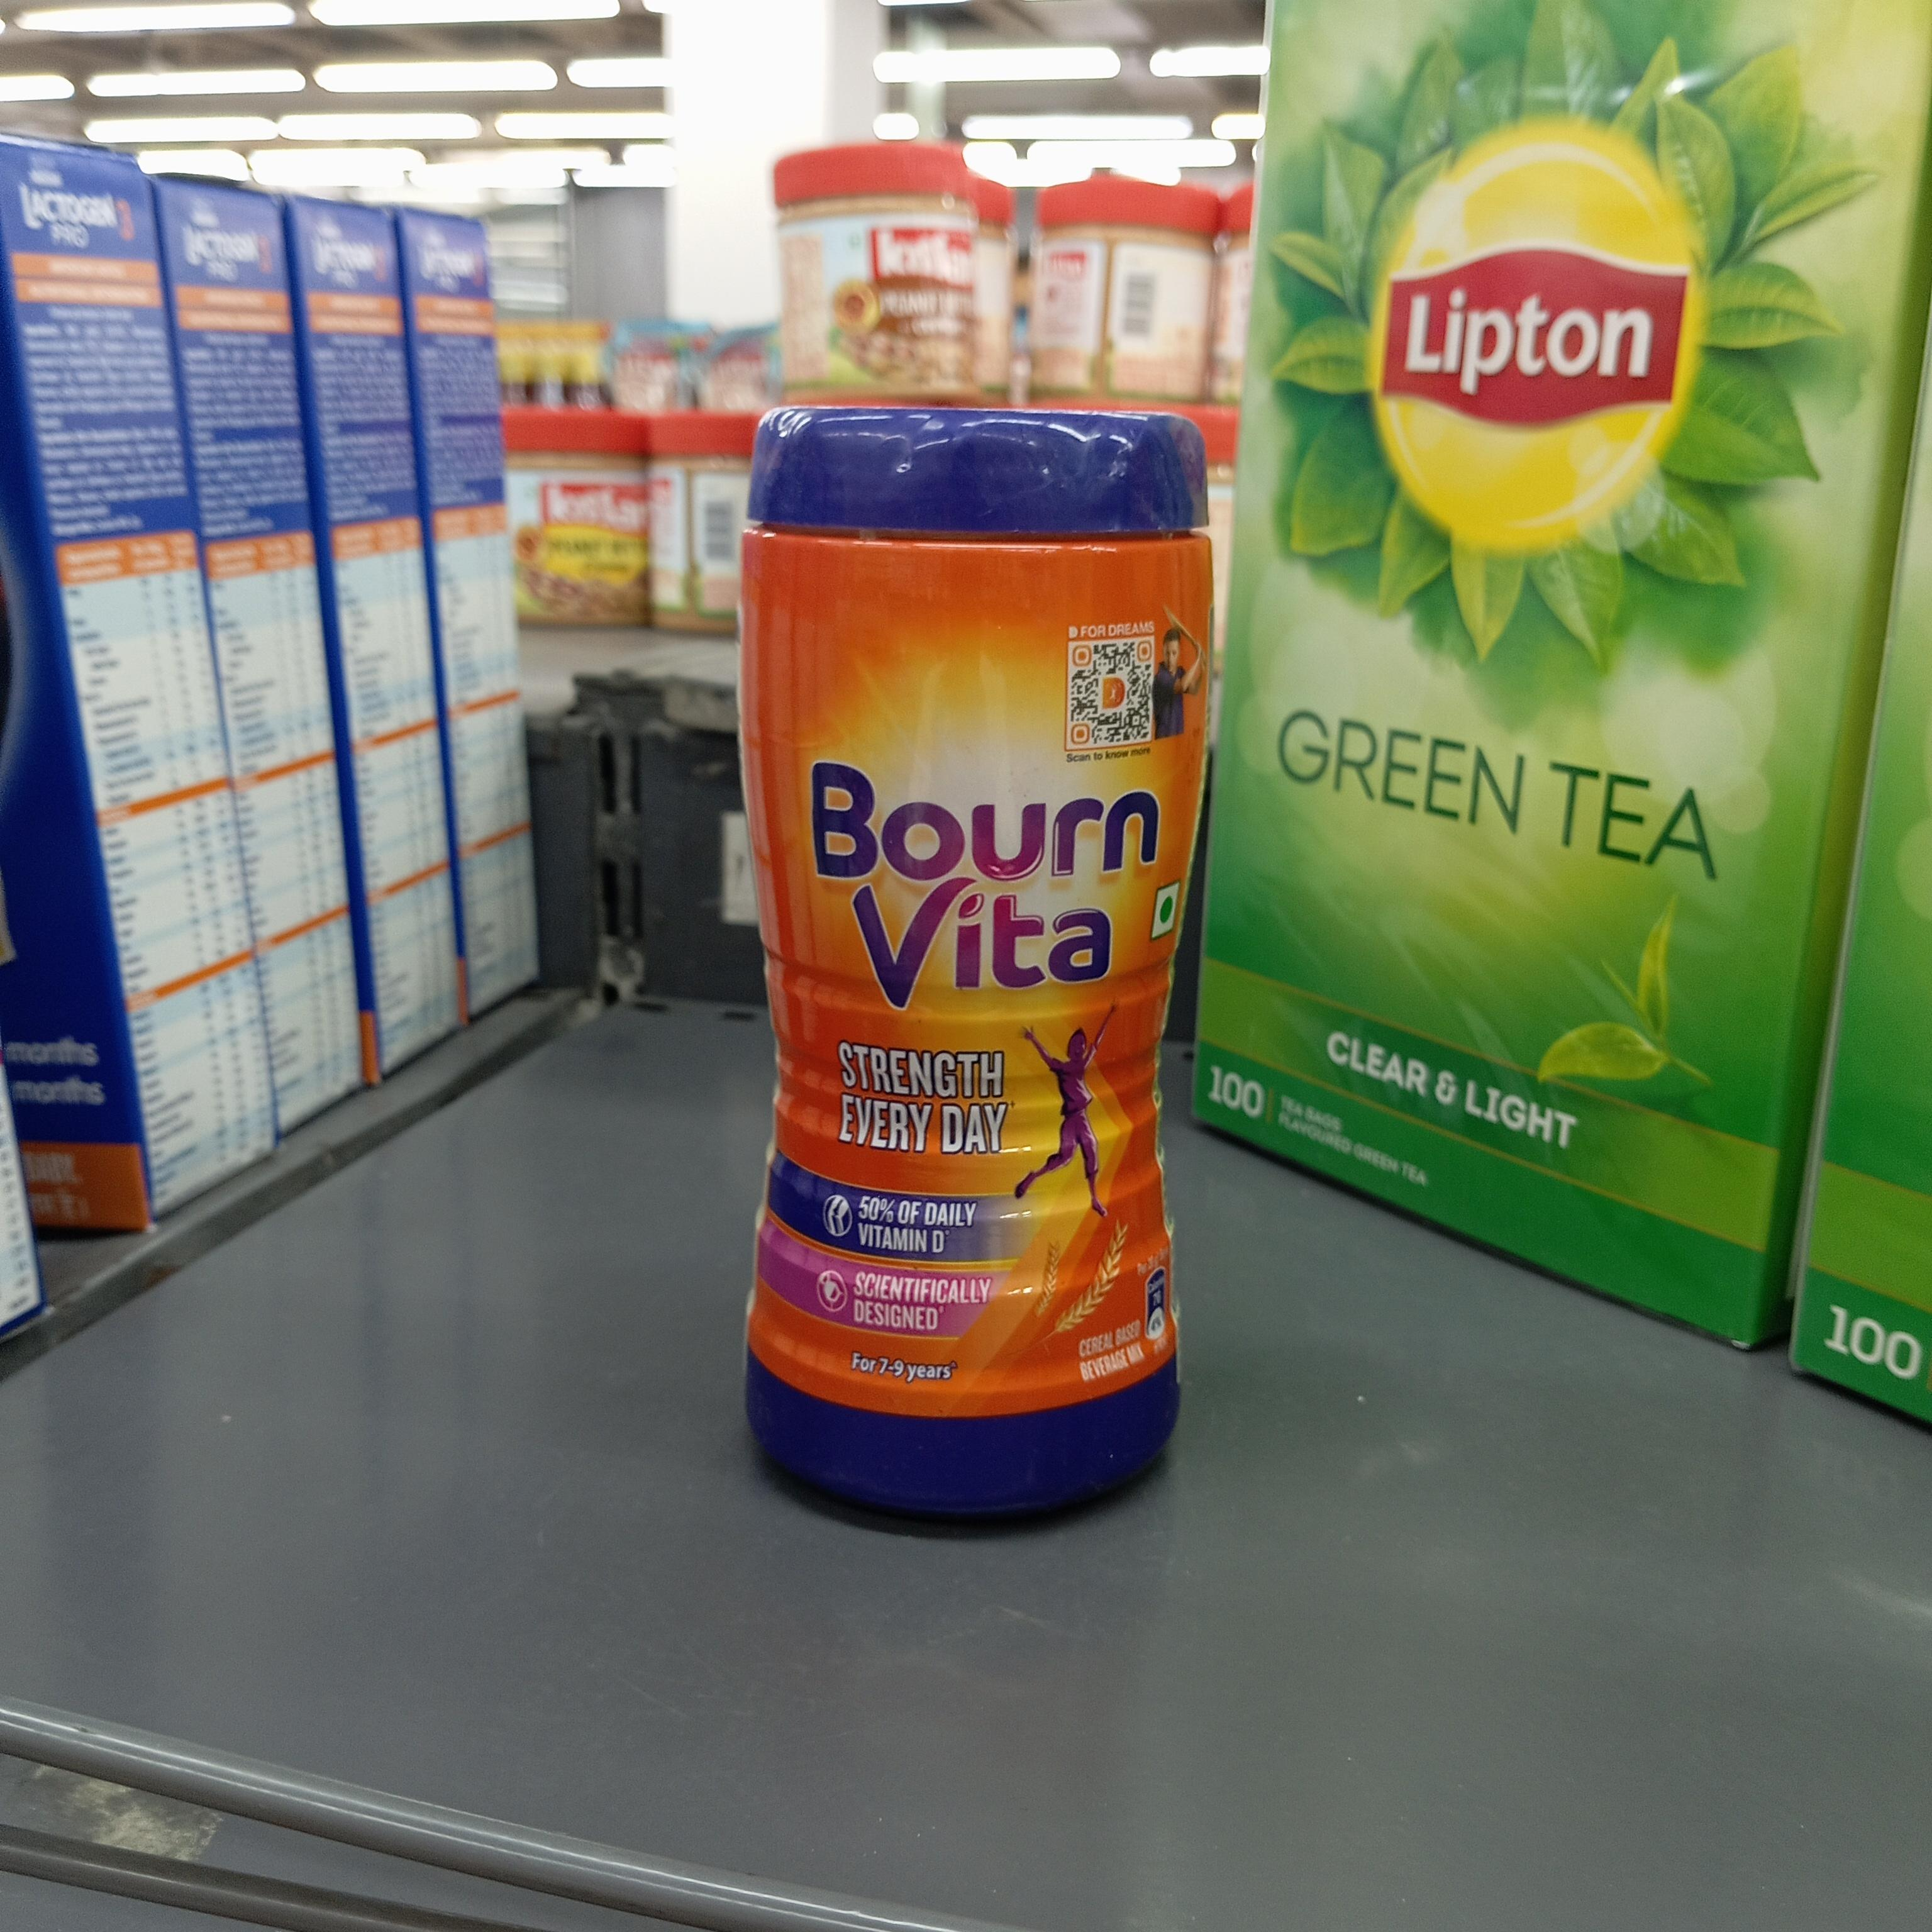BOURN_VITA_200_G_JAR: (724, 347, 1198, 1514)
